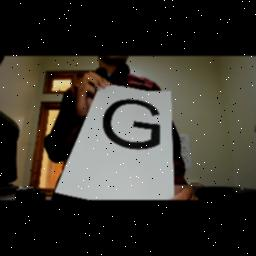g: (100, 93, 164, 163)
